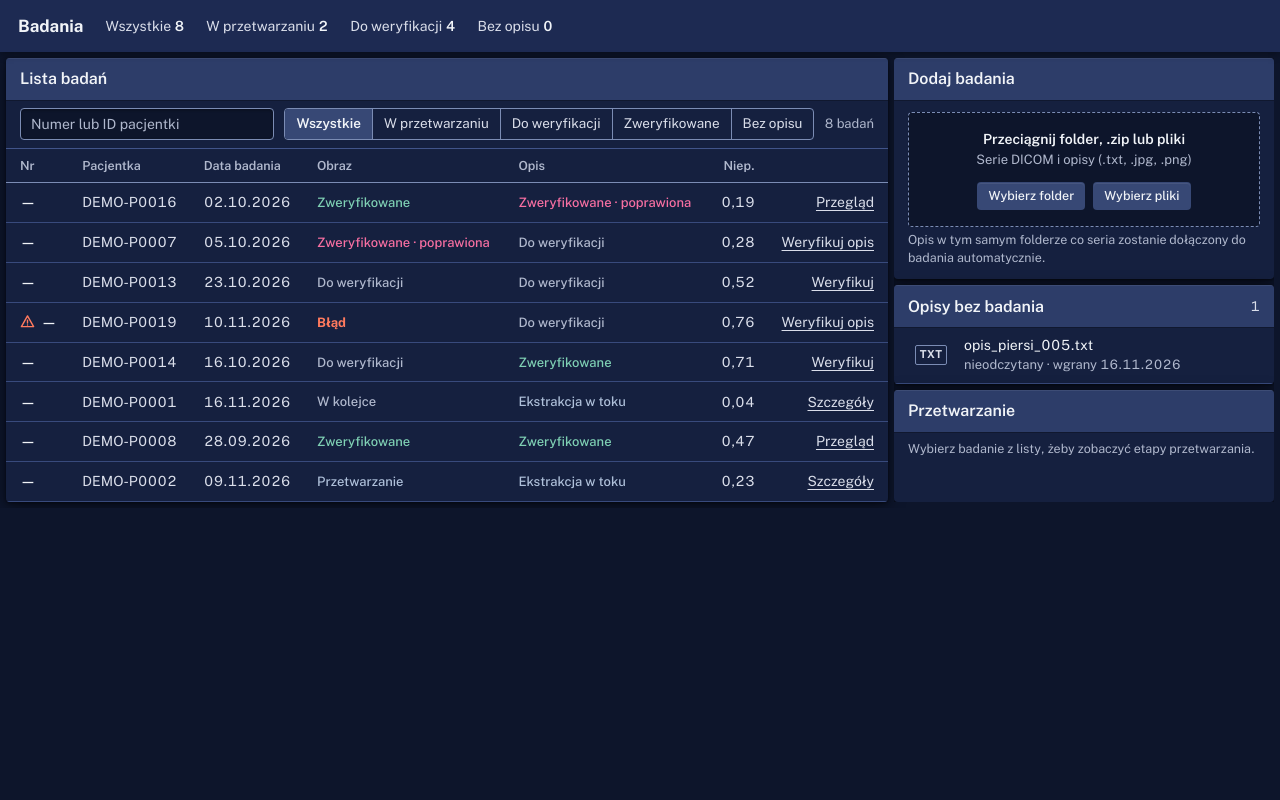
Test case: StudiesPage › orders reading a report nobody has processed yet
The image size is (1280, 800).
Step 1. Click the text "opis_piersi_005.txt" → (1029, 345), box [964,337,1093,353]
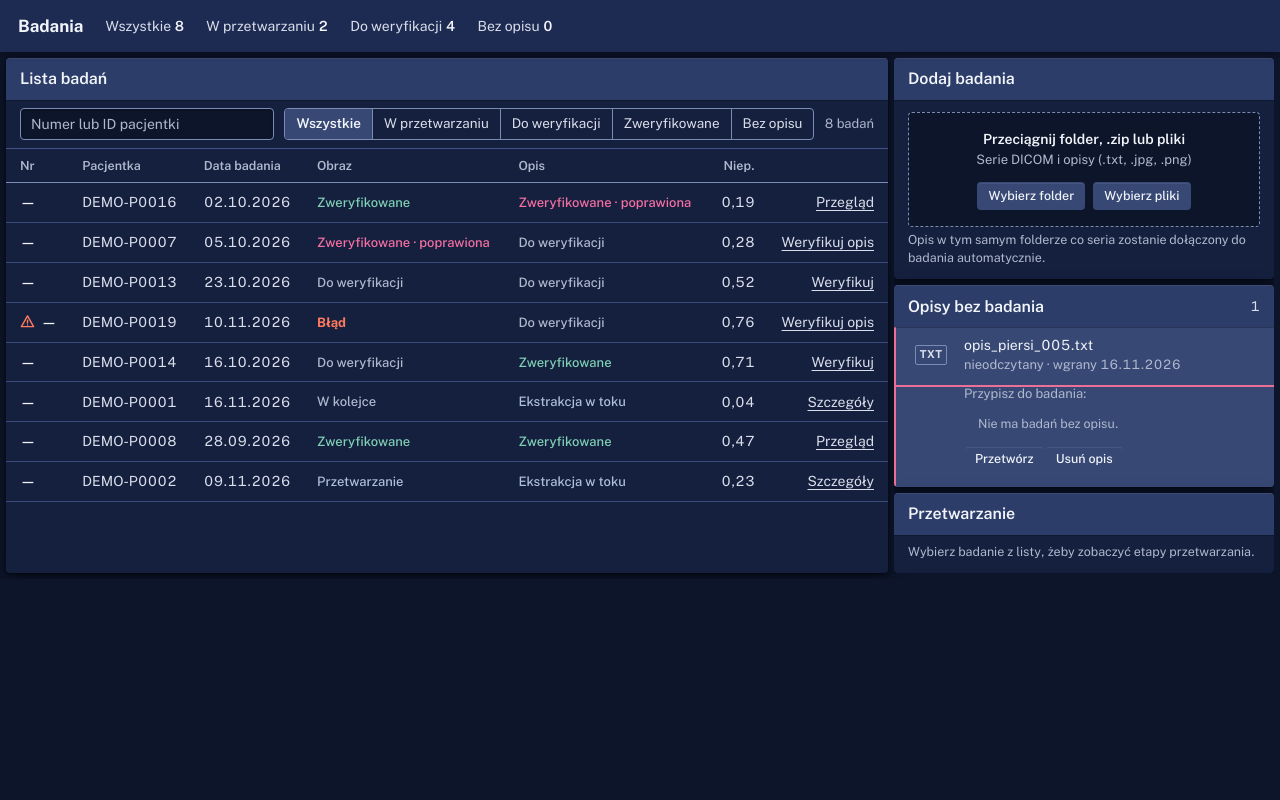
Step 2. Click the button "Przetwórz" → (1004, 460), box [964,446,1045,474]
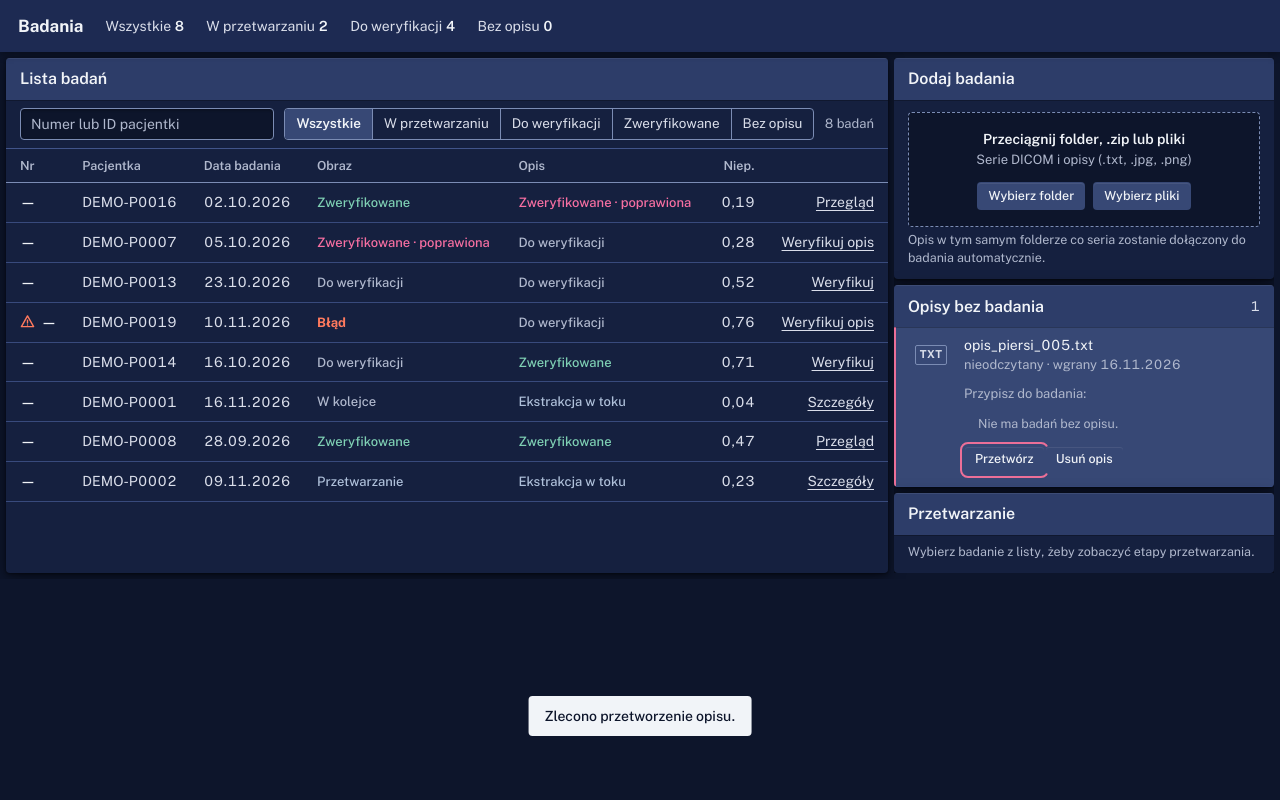
Check: the text "Zlecono przetworzenie opisu." is shown, box [529,696,752,736]
